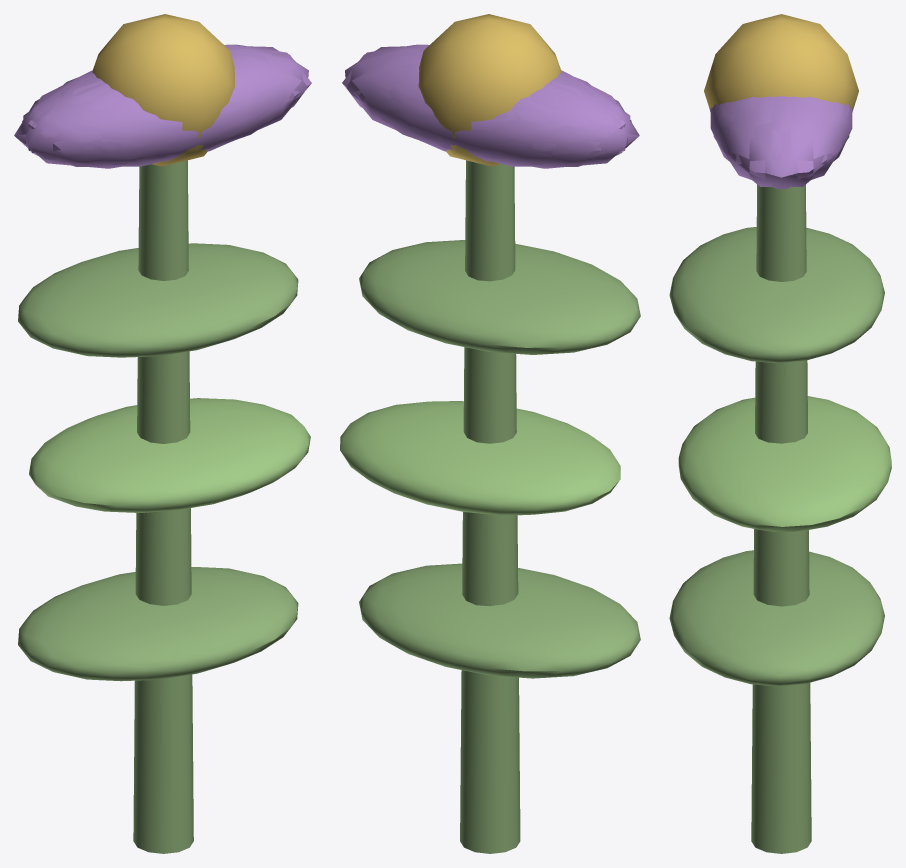
The model's file is peltophorum-pterocarpum.glb.
3 renders of one model, left to right at view 1: azimuth 30°, elevation 25°; view 2: azimuth 150°, elevation 25°; view 3: azimuth 270°, elevation 25°, orthographic.
Visible parts, largest first — view 1: stem, leaf2, leaf0, leaf1, center, petal6, petal2, petal1, petal5, petal7, petal0; view 2: stem, leaf2, leaf1, leaf0, center, petal3, petal7, petal8, petal4, petal2, petal0; view 3: stem, leaf1, leaf2, leaf0, center, petal0, petal4, petal5, petal1, petal8.
Boxes of the visible parts, x1,y1,x2,y2 form: stem: (133, 160, 193, 853); leaf2: (18, 243, 298, 357); leaf0: (18, 567, 298, 681); leaf1: (29, 398, 310, 512); center: (92, 14, 234, 166); petal6: (31, 83, 221, 166); petal2: (23, 78, 170, 168); petal1: (98, 62, 294, 164); petal5: (159, 53, 311, 157); petal7: (14, 72, 111, 160); petal0: (229, 46, 308, 123); stem: (460, 160, 520, 853); leaf2: (359, 240, 640, 354); leaf1: (340, 401, 620, 515); leaf0: (359, 563, 640, 678); center: (418, 14, 561, 166); petal3: (432, 83, 622, 166); petal7: (483, 78, 630, 168); petal8: (359, 62, 555, 164); petal4: (342, 53, 494, 157); petal2: (542, 72, 639, 160); petal0: (345, 46, 424, 141); stem: (751, 184, 811, 853); leaf1: (678, 396, 891, 531); leaf2: (669, 227, 884, 363); leaf0: (669, 550, 884, 686); center: (704, 14, 858, 109); petal0: (724, 96, 838, 186); petal4: (769, 96, 849, 189); petal5: (713, 96, 793, 189); petal1: (710, 97, 758, 161); petal8: (804, 97, 852, 162).
Bounding box in the file's own units: 0.1541 × 0.4198 × 0.103.
